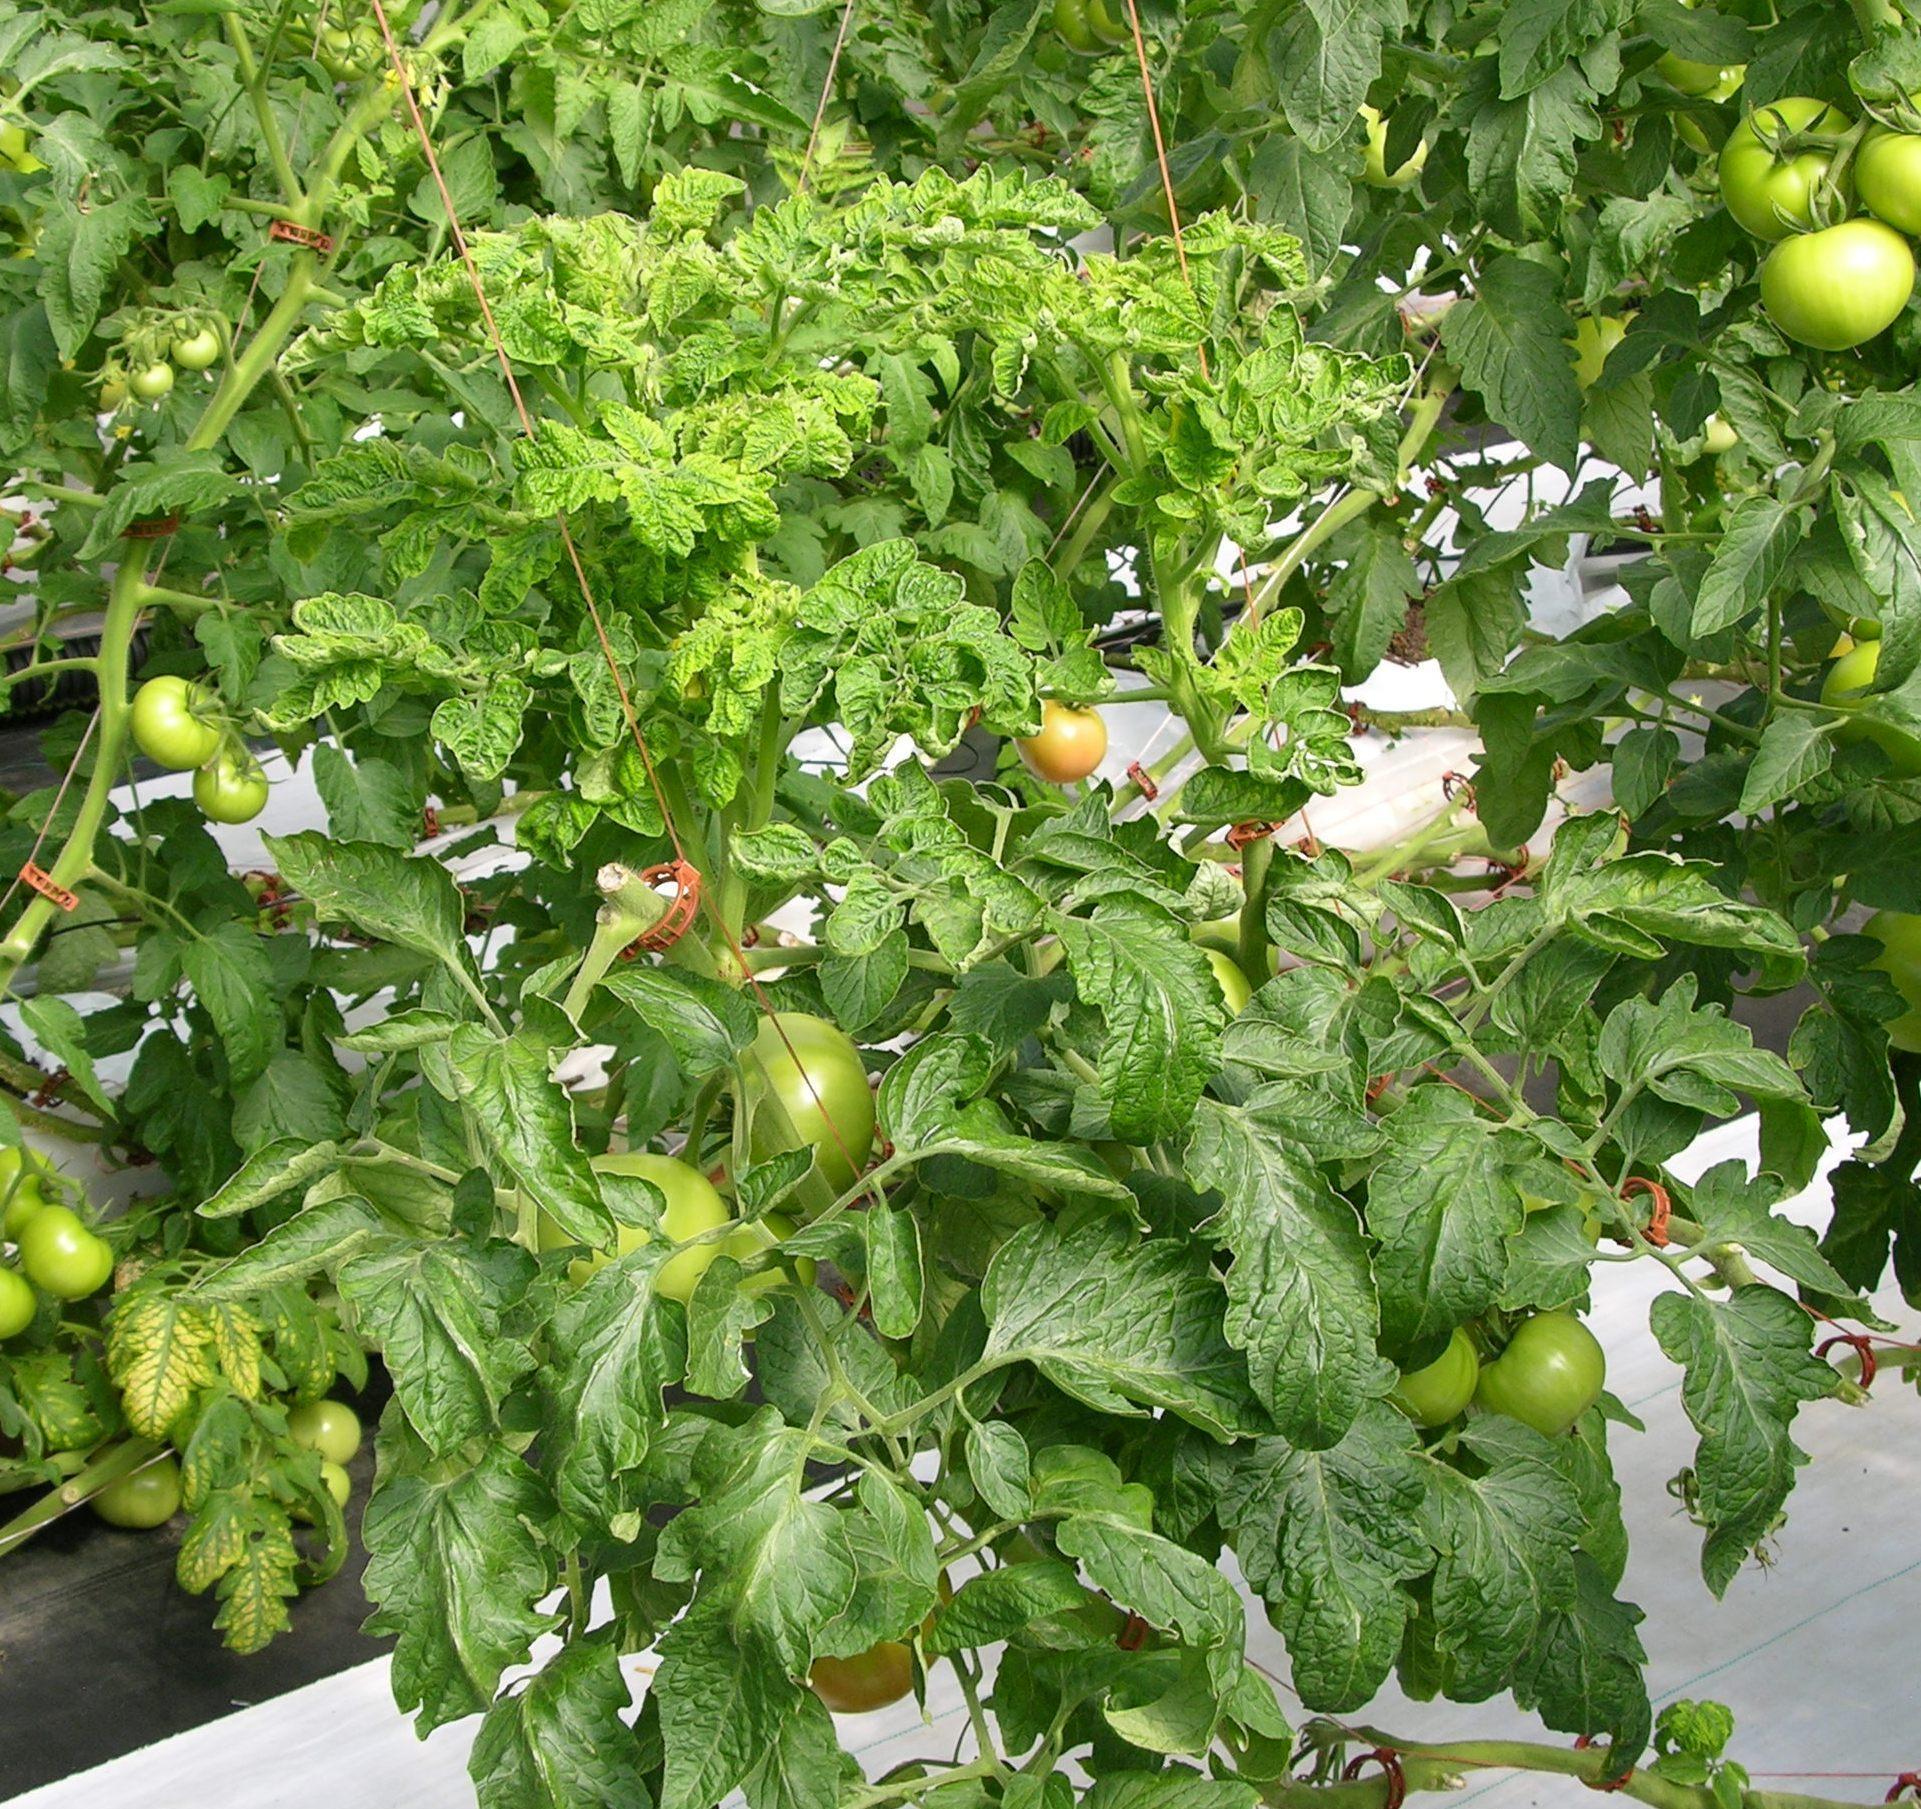Tomato leaf: (1205, 1132, 1404, 1462), (1028, 893, 1234, 1161), (172, 1398, 333, 1666), (258, 587, 440, 755), (105, 1272, 216, 1437), (406, 675, 552, 792), (733, 381, 874, 485), (484, 425, 626, 525), (728, 559, 804, 723), (1001, 541, 1091, 665), (637, 245, 738, 350), (1156, 394, 1243, 496), (648, 615, 722, 728), (1226, 592, 1324, 677), (976, 306, 1047, 410), (626, 468, 700, 563), (1232, 338, 1306, 400)
